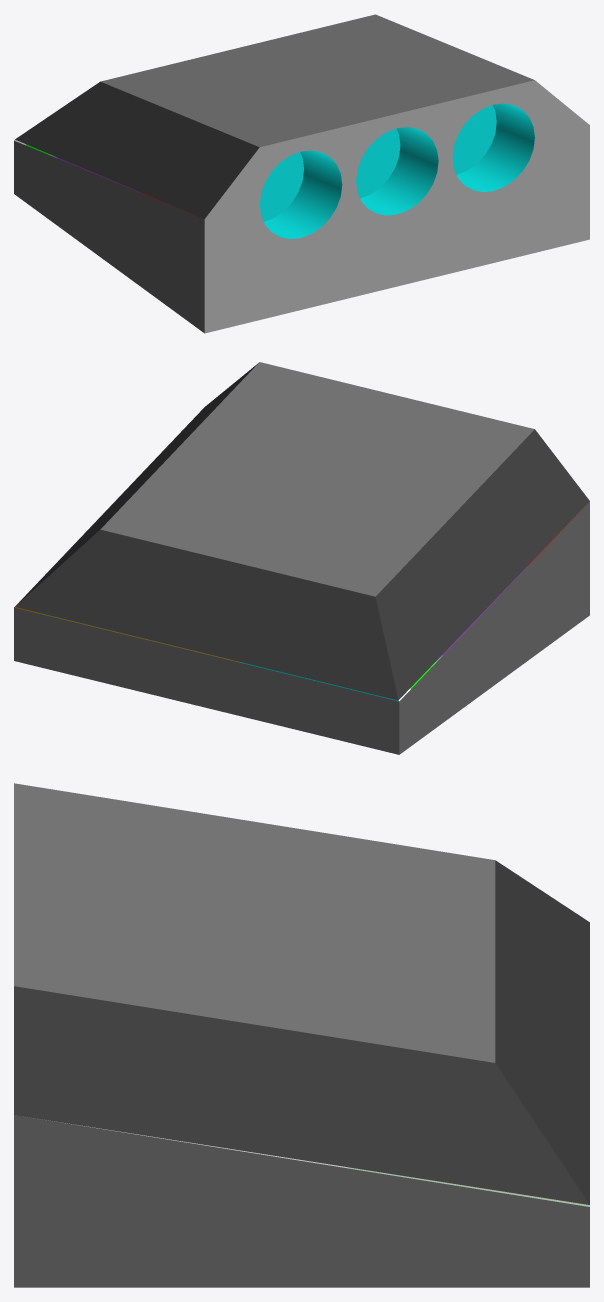
File: TankyMissile.fbx
The picture shows the model from 3 angles, top to bottom: view 1: azimuth 30°, elevation 25°; view 2: azimuth 150°, elevation 25°; view 3: azimuth 270°, elevation 25°; orthographic projection. The views are drawn at different scales.
Visible parts, largest first — view 1: Missile v2; view 2: Missile v2; view 3: Missile v2.
Part boxes in pixels (box(x1,y1,x2,y2)): Missile v2: box(14, 14, 589, 333); Missile v2: box(14, 362, 589, 754); Missile v2: box(14, 783, 589, 1287).
Size of the model in its own units: 70 by 30 by 60.
